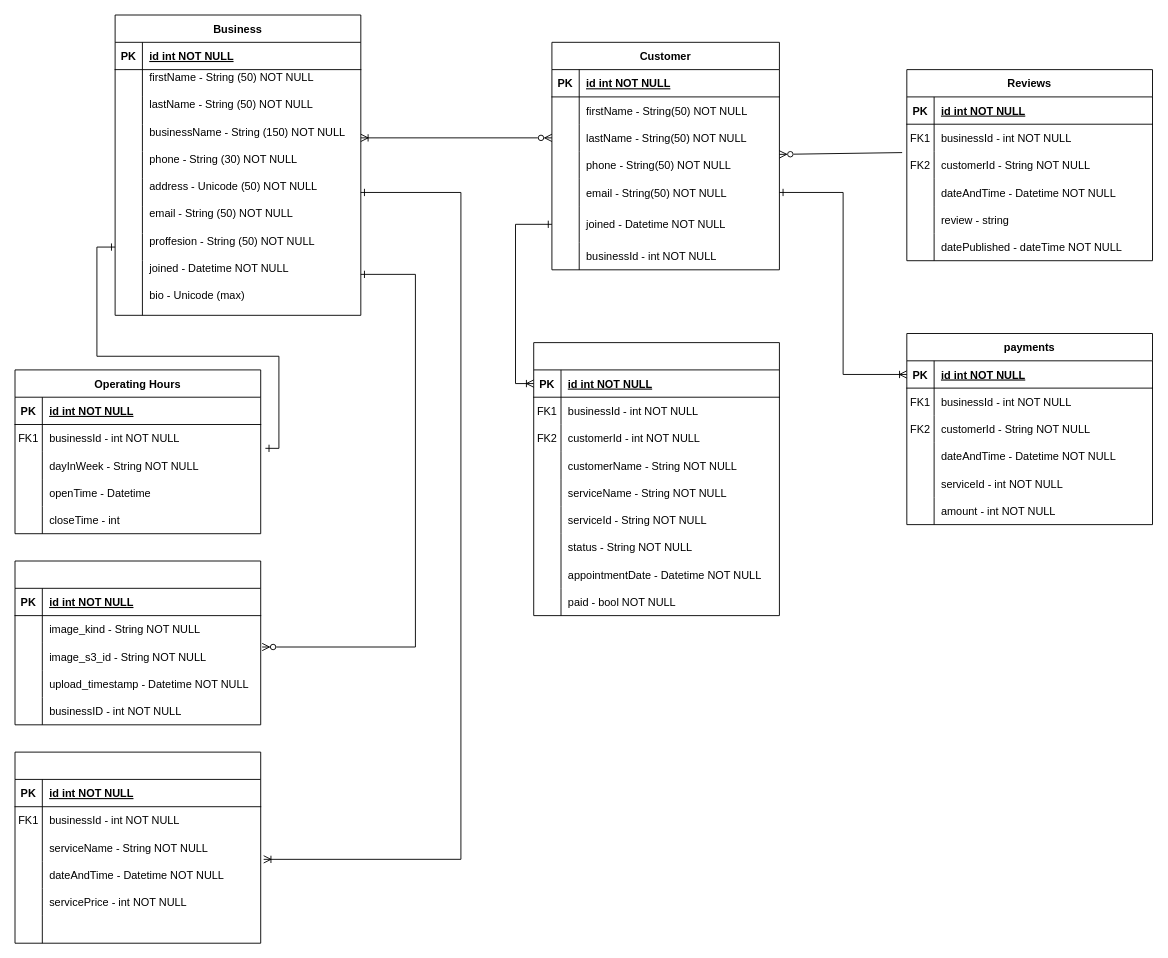
This 1168x958 diagram has some shape labels left out. Here are the shapes that lost their labels. From the top down, the box of each, then its label:
(533, 342, 779, 616): Appointments
(14, 560, 261, 725): Assets
(14, 751, 261, 943): Services
